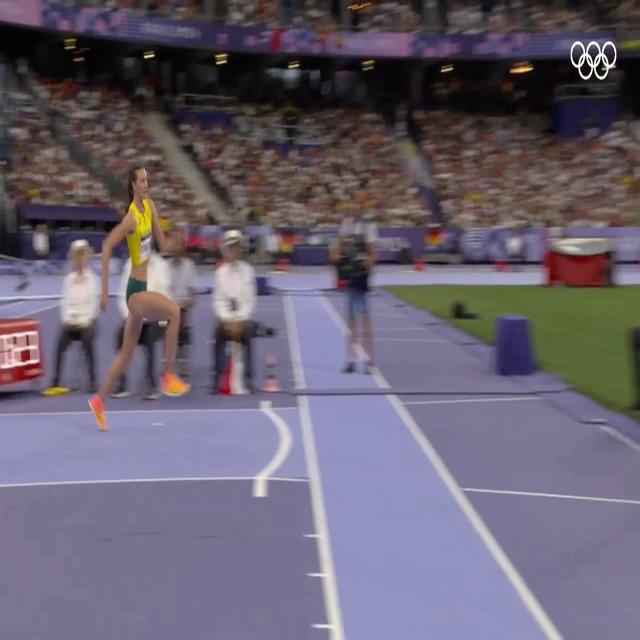run: (88, 167, 192, 432)
